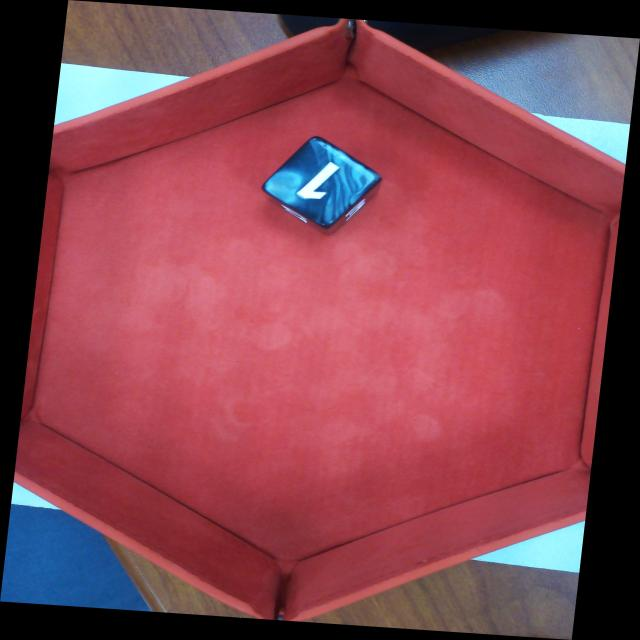dice: (259, 135, 383, 230)
